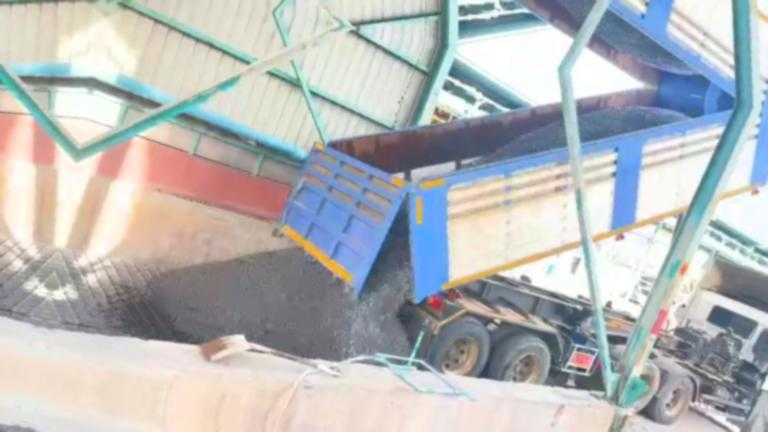gravel: (148, 209, 411, 360), (471, 118, 565, 165), (579, 106, 686, 142)
